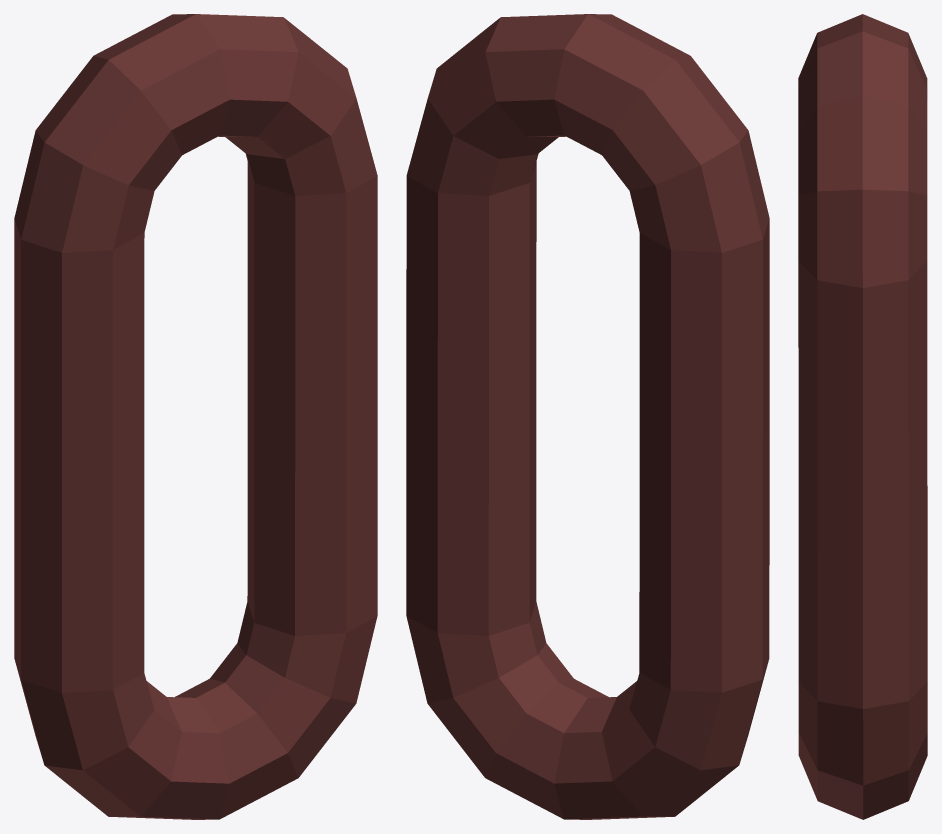
File: LightGreyMetalMechLargeTrainEngineBoxCar1Cuppling.fbx
3 renders of one model, left to right at view 1: azimuth 30°, elevation 25°; view 2: azimuth 150°, elevation 25°; view 3: azimuth 270°, elevation 25°, orthographic. The views are drawn at different scales.
Parts seen in each view (by area): view 1: COLObj2, COLObj9, COLObj14, COLObj1, COLObj13, COLObj3, COLObj12, COLObj4, COLObj7, COLObj11, COLObj8, COLObj6 (+2 smaller); view 2: COLObj2, COLObj9, COLObj14, COLObj1, COLObj13, COLObj3, COLObj12, COLObj4, COLObj7, COLObj11, COLObj8, COLObj6 (+2 smaller); view 3: COLObj9, COLObj10, COLObj11, COLObj8, COLObj12, COLObj7, COLObj13.
Boxes of the visible parts, x1,y1,x2,y2 form: COLObj2: (14,218,144,692); COLObj9: (247,162,377,635); COLObj14: (35,56,181,190); COLObj1: (14,130,154,252); COLObj13: (94,14,229,155); COLObj3: (15,662,154,770); COLObj12: (196,14,298,136); COLObj4: (45,681,181,816); COLObj7: (210,643,355,777); COLObj11: (225,18,356,158); COLObj8: (237,601,377,703); COLObj6: (174,678,298,818); COLObj2: (639,219,769,692); COLObj9: (406,161,536,635); COLObj14: (602,56,748,190); COLObj1: (629,130,769,252); COLObj13: (554,14,690,154); COLObj3: (629,662,768,770); COLObj12: (485,14,587,136); COLObj4: (602,681,738,816); COLObj7: (428,643,573,777); COLObj11: (427,17,558,158); COLObj8: (406,602,546,703); COLObj6: (485,679,608,819); COLObj9: (798,261,927,708); COLObj10: (798,189,927,287); COLObj11: (798,95,927,195); COLObj8: (798,682,927,785); COLObj12: (798,31,927,132); COLObj7: (798,733,927,819); COLObj13: (798,14,927,88).
Bounding box in the file's own units: 24.53 × 54.02 × 8.21.
